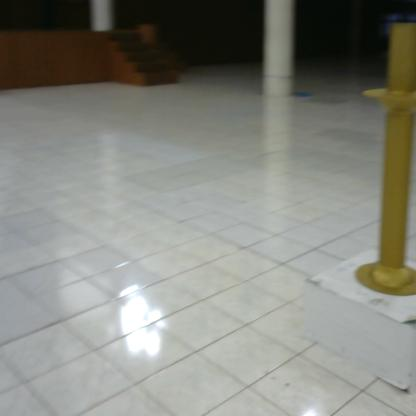pole: (348, 18, 416, 305)
